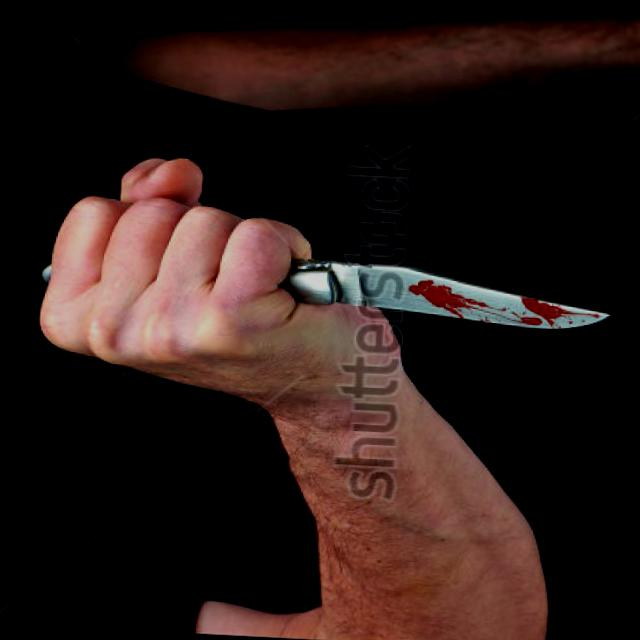knife: (107, 192, 620, 390)
